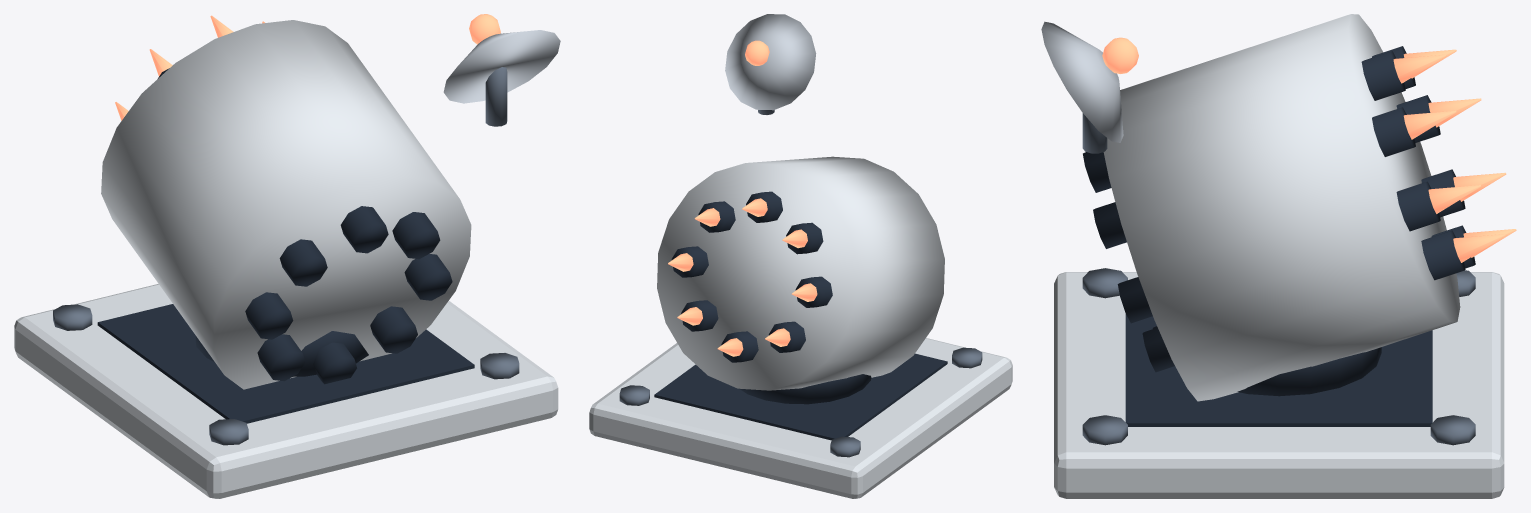
The model's file is needler.fbx.
3 views of the same model, side by side, from view 1: azimuth 30°, elevation 25°; view 2: azimuth 150°, elevation 25°; view 3: azimuth 270°, elevation 25° (orthographic). The views are drawn at different scales.
Visible parts, largest first — view 1: Panel_Sleeve0, Panel_Plate0.004, Inset_Inset0.004, Dish_Dish0.001, Inset_Tube3.001, Inset_Tube2.001, Inset_Tube4.001, Inset_Tube1.001, Inset_Tube7, Inset_Tube5.001, Inset_Tube0.001, Inset_Ring0.004 (+6 smaller); view 2: Panel_Sleeve0, Panel_Plate0.004, Inset_Inset0.004, Dish_Dish0.001, Inset_Ring0.004, Inset_Tube6, Inset_Tube5.001, Inset_Tube1.001, Inset_Tube2.001, Inset_Tube7, Inset_Tube0.001, Inset_Tube3.001 (+5 smaller); view 3: Panel_Sleeve0, Panel_Plate0.004, Inset_Inset0.004, Dish_Dish0.001, Inset_Ring0.004, Inset_Tube0.001, Inset_Tube1.001, Inset_Tube7, Inset_Tube2.001, Gun_Bolt3.004, Gun_Bolt2.004, Gun_Bolt0.004 (+10 smaller).
Part boxes in pixels (x1,y1,x2,y2): Panel_Sleeve0: (101, 20, 471, 389); Panel_Plate0.004: (14, 284, 558, 498); Inset_Inset0.004: (97, 304, 474, 423); Dish_Dish0.001: (443, 30, 560, 103); Inset_Tube3.001: (158, 68, 327, 286); Inset_Tube2.001: (340, 206, 388, 253); Inset_Tube4.001: (245, 292, 293, 339); Inset_Tube1.001: (392, 212, 440, 259); Inset_Tube7: (370, 306, 417, 353); Inset_Tube5.001: (257, 334, 305, 381); Inset_Tube0.001: (404, 254, 452, 300); Inset_Ring0.004: (194, 331, 368, 376); Panel_Sleeve0: (657, 156, 944, 390); Panel_Plate0.004: (589, 338, 1012, 498); Inset_Inset0.004: (654, 353, 947, 440); Dish_Dish0.001: (725, 14, 816, 110); Inset_Ring0.004: (739, 374, 871, 404); Inset_Tube6: (721, 331, 758, 362); Inset_Tube5.001: (768, 321, 805, 352); Inset_Tube1.001: (698, 201, 735, 232); Inset_Tube2.001: (746, 191, 782, 222); Inset_Tube7: (681, 300, 718, 331); Inset_Tube0.001: (671, 246, 708, 277); Inset_Tube3.001: (786, 222, 823, 254); Panel_Sleeve0: (1103, 14, 1460, 401); Panel_Plate0.004: (1054, 272, 1504, 498); Inset_Inset0.004: (1125, 314, 1432, 426); Dish_Dish0.001: (1041, 21, 1123, 142); Inset_Ring0.004: (1237, 347, 1381, 396); Inset_Tube0.001: (1117, 181, 1440, 323); Inset_Tube1.001: (1093, 107, 1415, 248); Inset_Tube7: (1142, 230, 1465, 372); Inset_Tube2.001: (1083, 51, 1405, 192); Gun_Bolt3.004: (1430, 415, 1475, 445); Gun_Bolt2.004: (1082, 415, 1127, 445); Gun_Bolt0.004: (1082, 268, 1127, 298).
Size of the model in its own units: 0.45 by 0.4643 by 0.4837.
